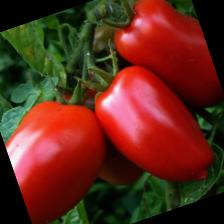tomato: (74, 37, 222, 209), (0, 64, 126, 224), (98, 0, 224, 132)
